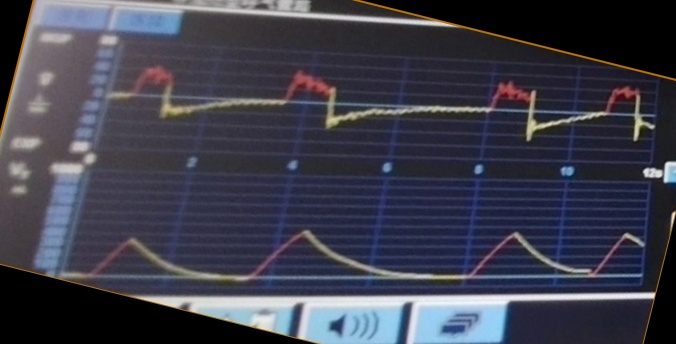Accumulation Flow: (118, 62, 652, 151)
Volume: (84, 187, 644, 289)
